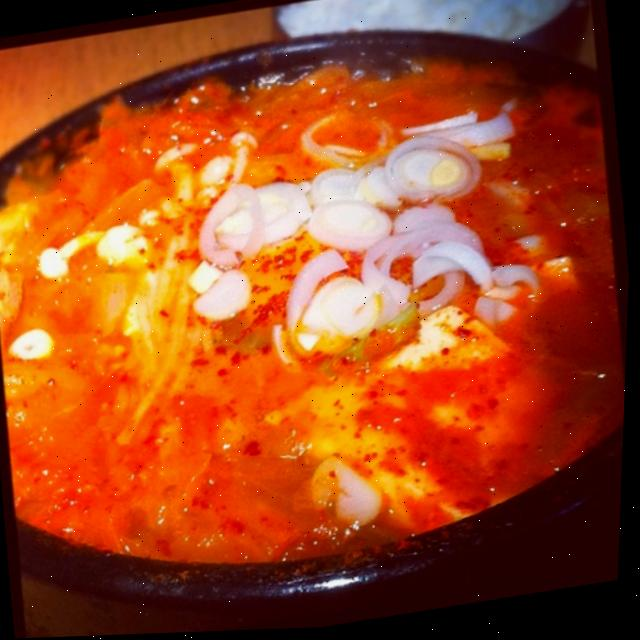汤锅炖物: (0, 36, 595, 616)
